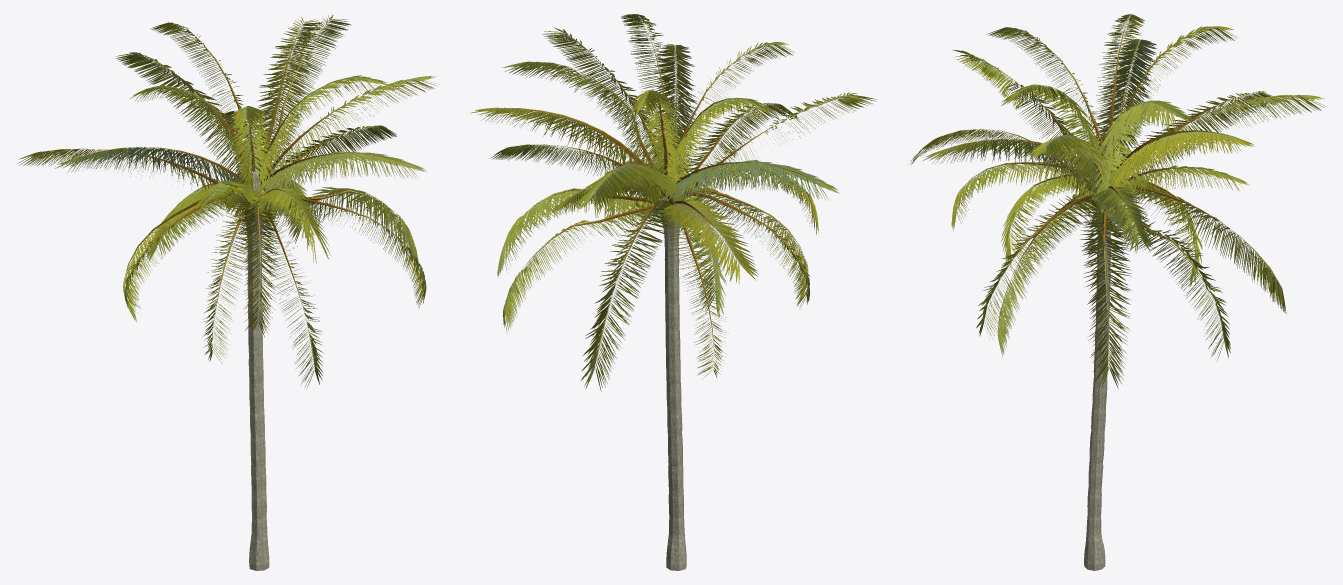
The model's file is coconutTree.obj.
The picture shows the model from 3 angles, left to right: view 1: azimuth 30°, elevation 25°; view 2: azimuth 150°, elevation 25°; view 3: azimuth 270°, elevation 25°; orthographic projection. The views are drawn at different scales.
Parts seen in each view (by area): view 1: Palm, Trunk; view 2: Palm, Trunk; view 3: Palm, Trunk.
Boxes of the visible parts, bbox=[...] form: Palm: bbox=[17, 14, 436, 388]; Trunk: bbox=[244, 169, 269, 570]; Palm: bbox=[470, 14, 876, 391]; Trunk: bbox=[661, 171, 686, 570]; Palm: bbox=[910, 14, 1324, 389]; Trunk: bbox=[1084, 160, 1111, 570].
Size of the model in its own units: 777 by 1100 by 800.
